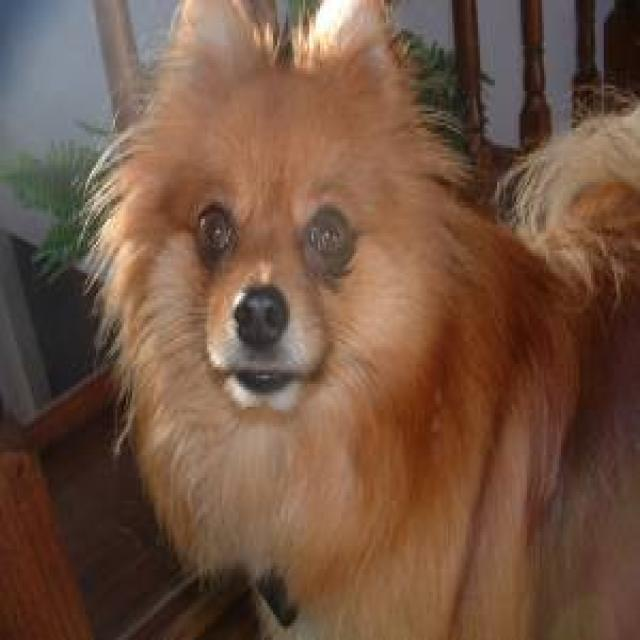dog-pomeranian: (100, 3, 636, 634)
